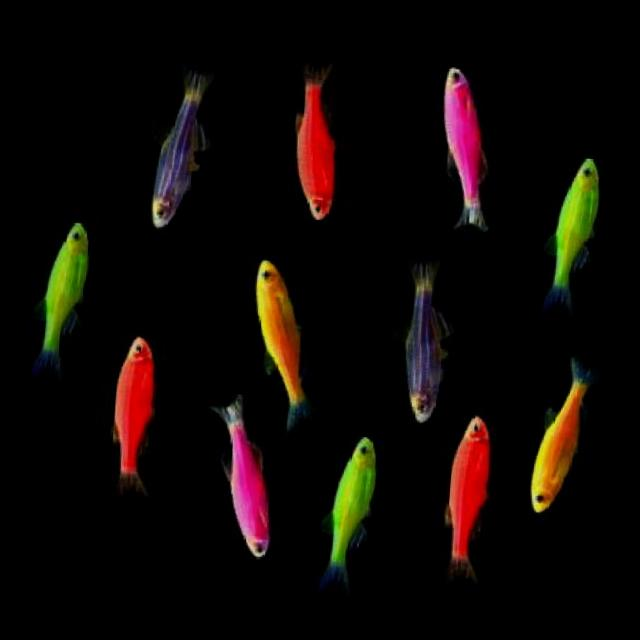ZebraFish: (244, 259, 324, 422), (198, 392, 275, 558), (384, 254, 457, 422), (146, 60, 216, 232), (23, 211, 92, 380), (310, 428, 378, 592), (430, 65, 497, 228), (430, 408, 490, 584), (539, 156, 600, 312), (529, 362, 591, 512), (106, 335, 159, 501), (285, 65, 336, 225)
